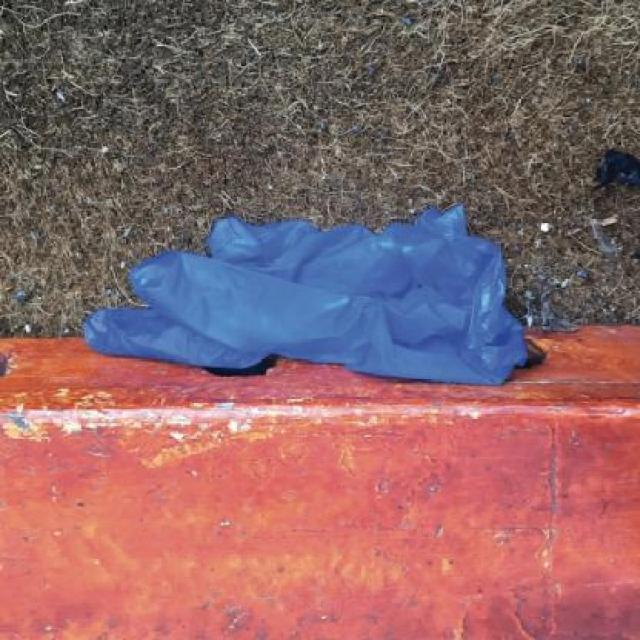gloved_hand: (80, 190, 552, 384)
